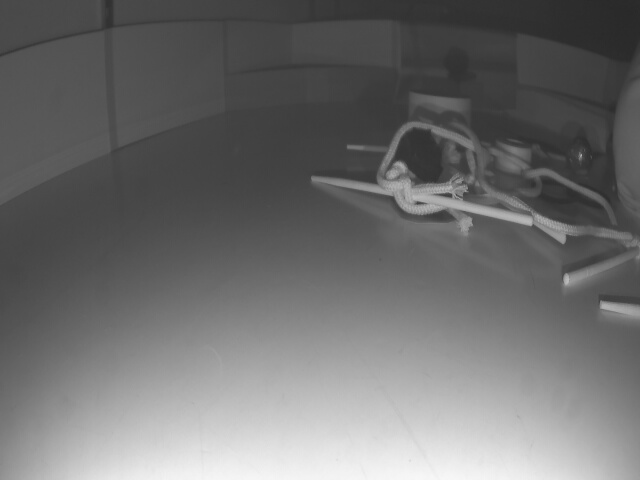Live: (564, 132, 592, 174)
Point: (224, 71, 394, 115), (518, 85, 622, 147)
